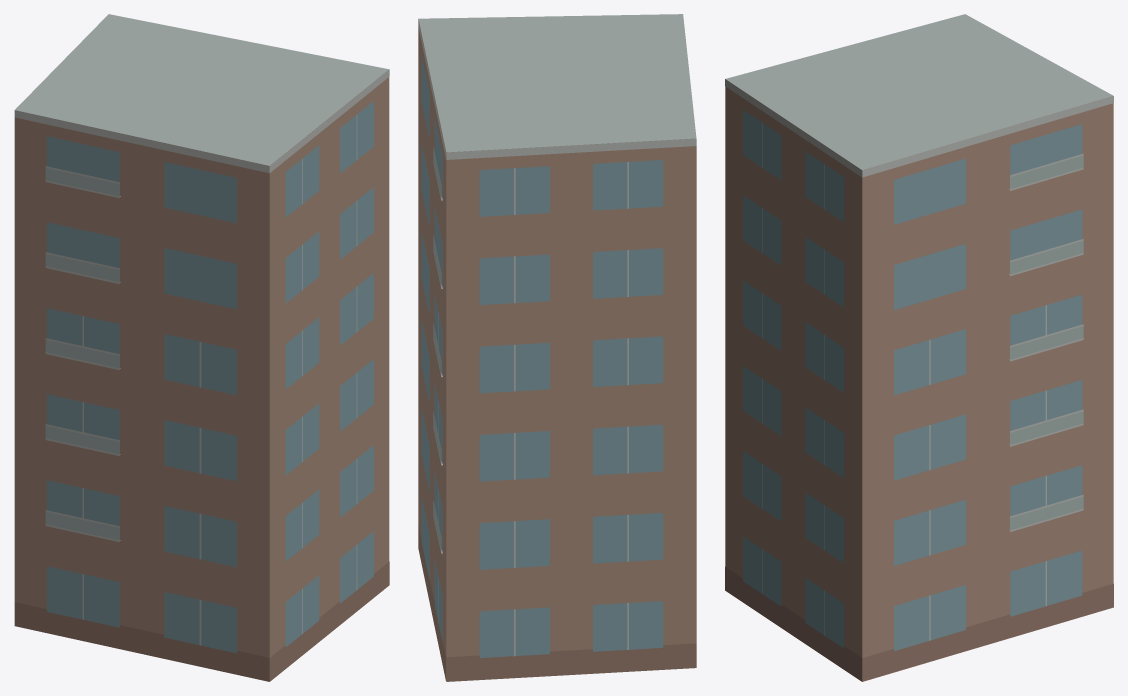
Rendered from survey-upis-32838236.glb.
3 renders of one model, left to right at view 1: azimuth 30°, elevation 25°; view 2: azimuth 150°, elevation 25°; view 3: azimuth 270°, elevation 25°, orthographic. The views are drawn at different scales.
Parts seen in each view (by area): view 1: survey-upis-32838236.tmp; view 2: survey-upis-32838236.tmp; view 3: survey-upis-32838236.tmp.
Boxes of the visible parts, x1=… form: survey-upis-32838236.tmp: x1=14, y1=14, x2=389, y2=681; survey-upis-32838236.tmp: x1=418, y1=14, x2=696, y2=681; survey-upis-32838236.tmp: x1=725, y1=14, x2=1113, y2=681.
Size of the model in its own units: 11.21 by 17.1 by 11.78.
